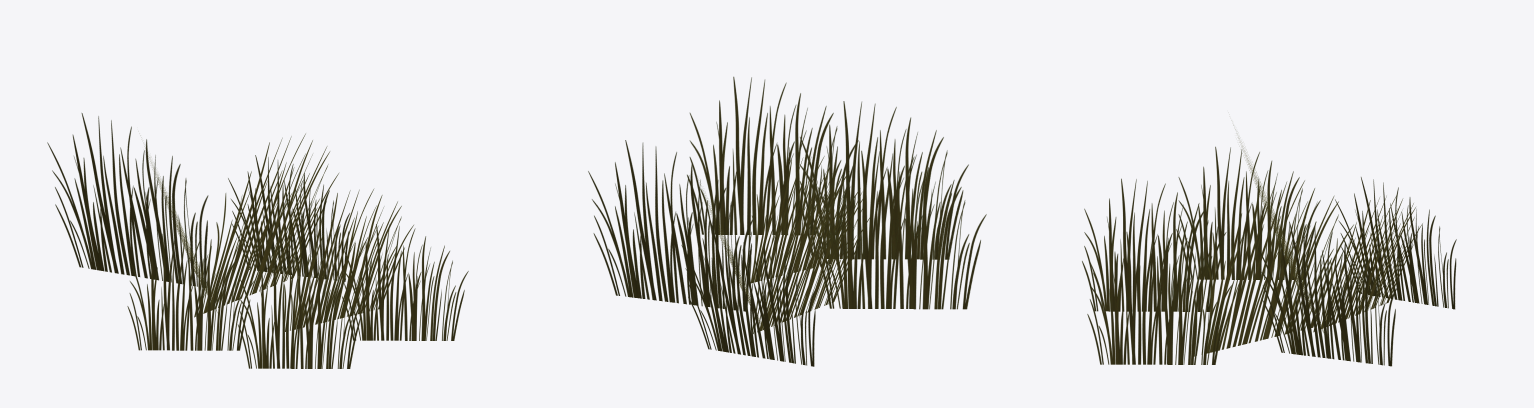
Rendered from death_grass_chunk_hight.glb.
3 renders of one model, left to right at view 1: azimuth 30°, elevation 25°; view 2: azimuth 150°, elevation 25°; view 3: azimuth 270°, elevation 25°, orthographic.
Visible parts, largest first — view 1: grass-anim_death.png__; view 2: grass-anim_death.png__; view 3: grass-anim_death.png__.
Part boxes in pixels (x1=…): grass-anim_death.png__: x1=47, y1=113, x2=468, y2=368; grass-anim_death.png__: x1=588, y1=76, x2=986, y2=366; grass-anim_death.png__: x1=1082, y1=125, x2=1456, y2=366.
Size of the model in its own units: 5.74 by 2.71 by 6.09.
1 material, 1 textured.
